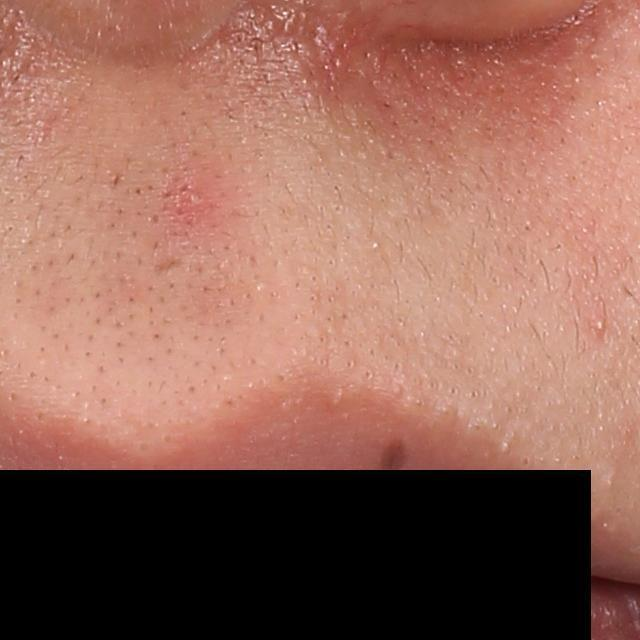atrophic_scar: (150, 256, 189, 280)
comedo: (592, 315, 609, 335)
nevus: (381, 431, 418, 477)
